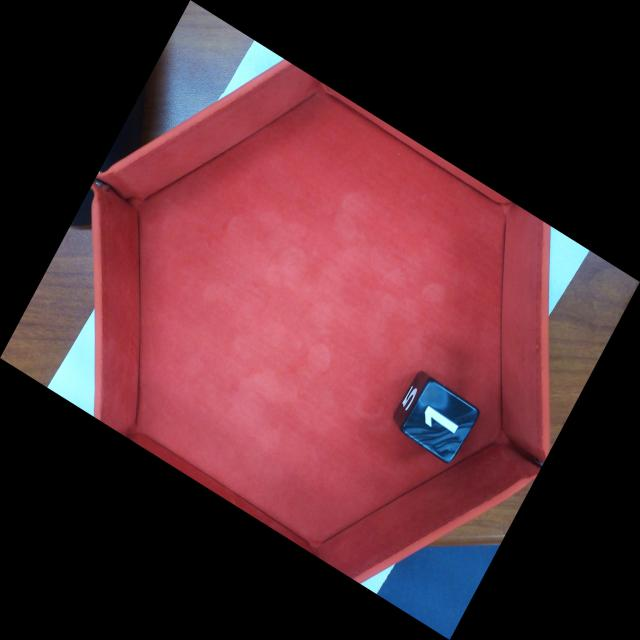dice: (399, 378, 481, 466)
